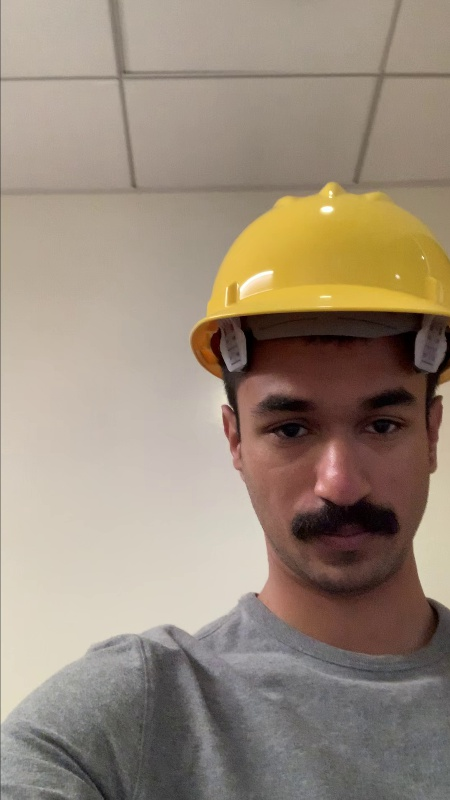helmet: (203, 183, 448, 322)
